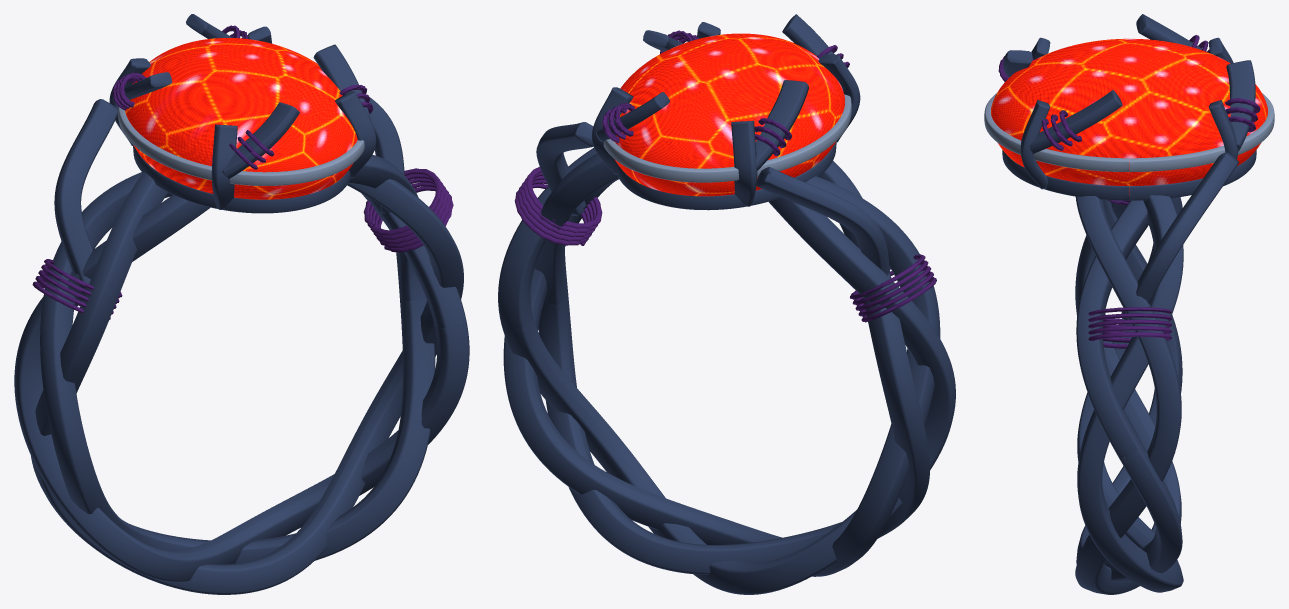
Rendered from starweave_ring.glb.
3 renders of one model, left to right at view 1: azimuth 30°, elevation 25°; view 2: azimuth 150°, elevation 25°; view 3: azimuth 270°, elevation 25°, orthographic.
Visible parts, largest first — view 1: Polished blue-black meteoric silver, Prismatic molten fire opal, Twisted violet silk bindings, Bright cold silver chased edges; view 2: Polished blue-black meteoric silver, Prismatic molten fire opal, Twisted violet silk bindings, Bright cold silver chased edges; view 3: Polished blue-black meteoric silver, Prismatic molten fire opal, Bright cold silver chased edges, Twisted violet silk bindings.
Boxes of the visible parts, box(x1,y1,x2,y2) form: Polished blue-black meteoric silver: box(14, 14, 469, 594); Prismatic molten fire opal: box(125, 38, 357, 199); Twisted violet silk bindings: box(32, 25, 453, 319); Bright cold silver chased edges: box(118, 106, 364, 185); Polished blue-black meteoric silver: box(498, 14, 955, 594); Prismatic molten fire opal: box(614, 33, 844, 196); Twisted violet silk bindings: box(514, 30, 936, 322); Bright cold silver chased edges: box(603, 94, 851, 182); Polished blue-black meteoric silver: box(1002, 14, 1256, 594); Prismatic molten fire opal: box(991, 38, 1267, 195); Bright cold silver chased edges: box(984, 93, 1274, 172); Twisted violet silk bindings: box(998, 35, 1260, 348).
Bounding box in the file's own units: 0.0244 × 0.0287 × 0.0146.
Materials: 4 (1 with a texture image).
